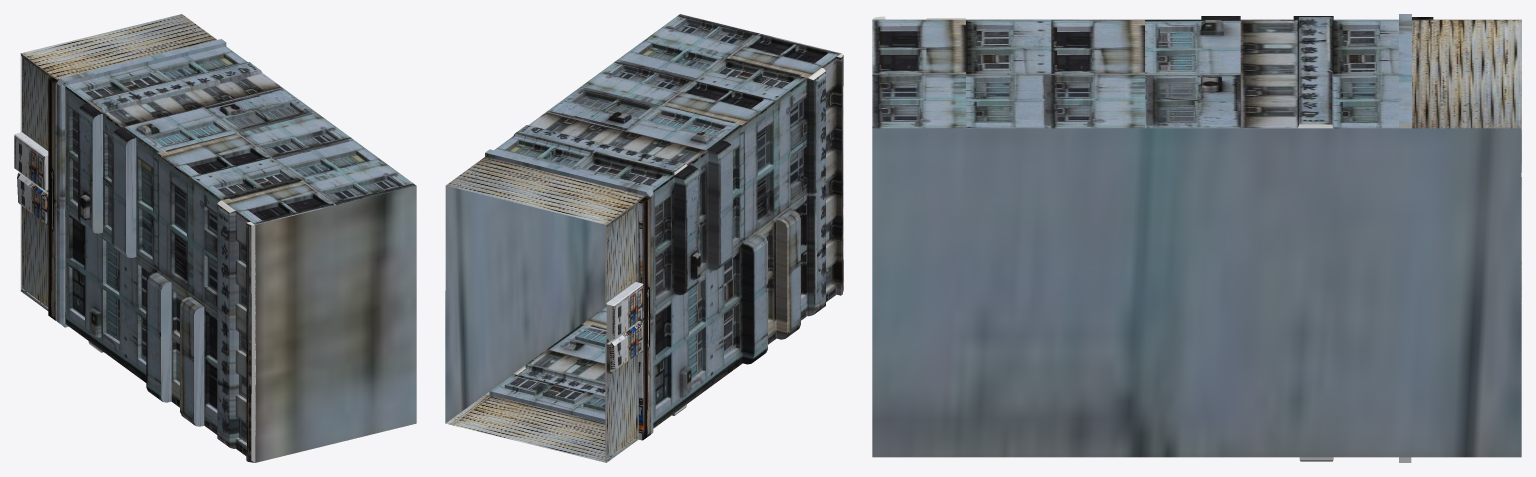
Rendered from b1_ready.obj.
3 views of the same model, side by side, from view 1: azimuth 30°, elevation 25°; view 2: azimuth 150°, elevation 25°; view 3: azimuth 270°, elevation 25° (orthographic). The views are drawn at different scales.
Visible parts, largest first — view 1: Plane; view 2: Plane; view 3: Plane.
Part boxes in pixels (bbox=[...]): Plane: bbox=[14, 14, 416, 462]; Plane: bbox=[445, 14, 843, 462]; Plane: bbox=[872, 14, 1521, 462].
Bounding box in the file's own units: 8.91 × 11.96 × 20.51.
